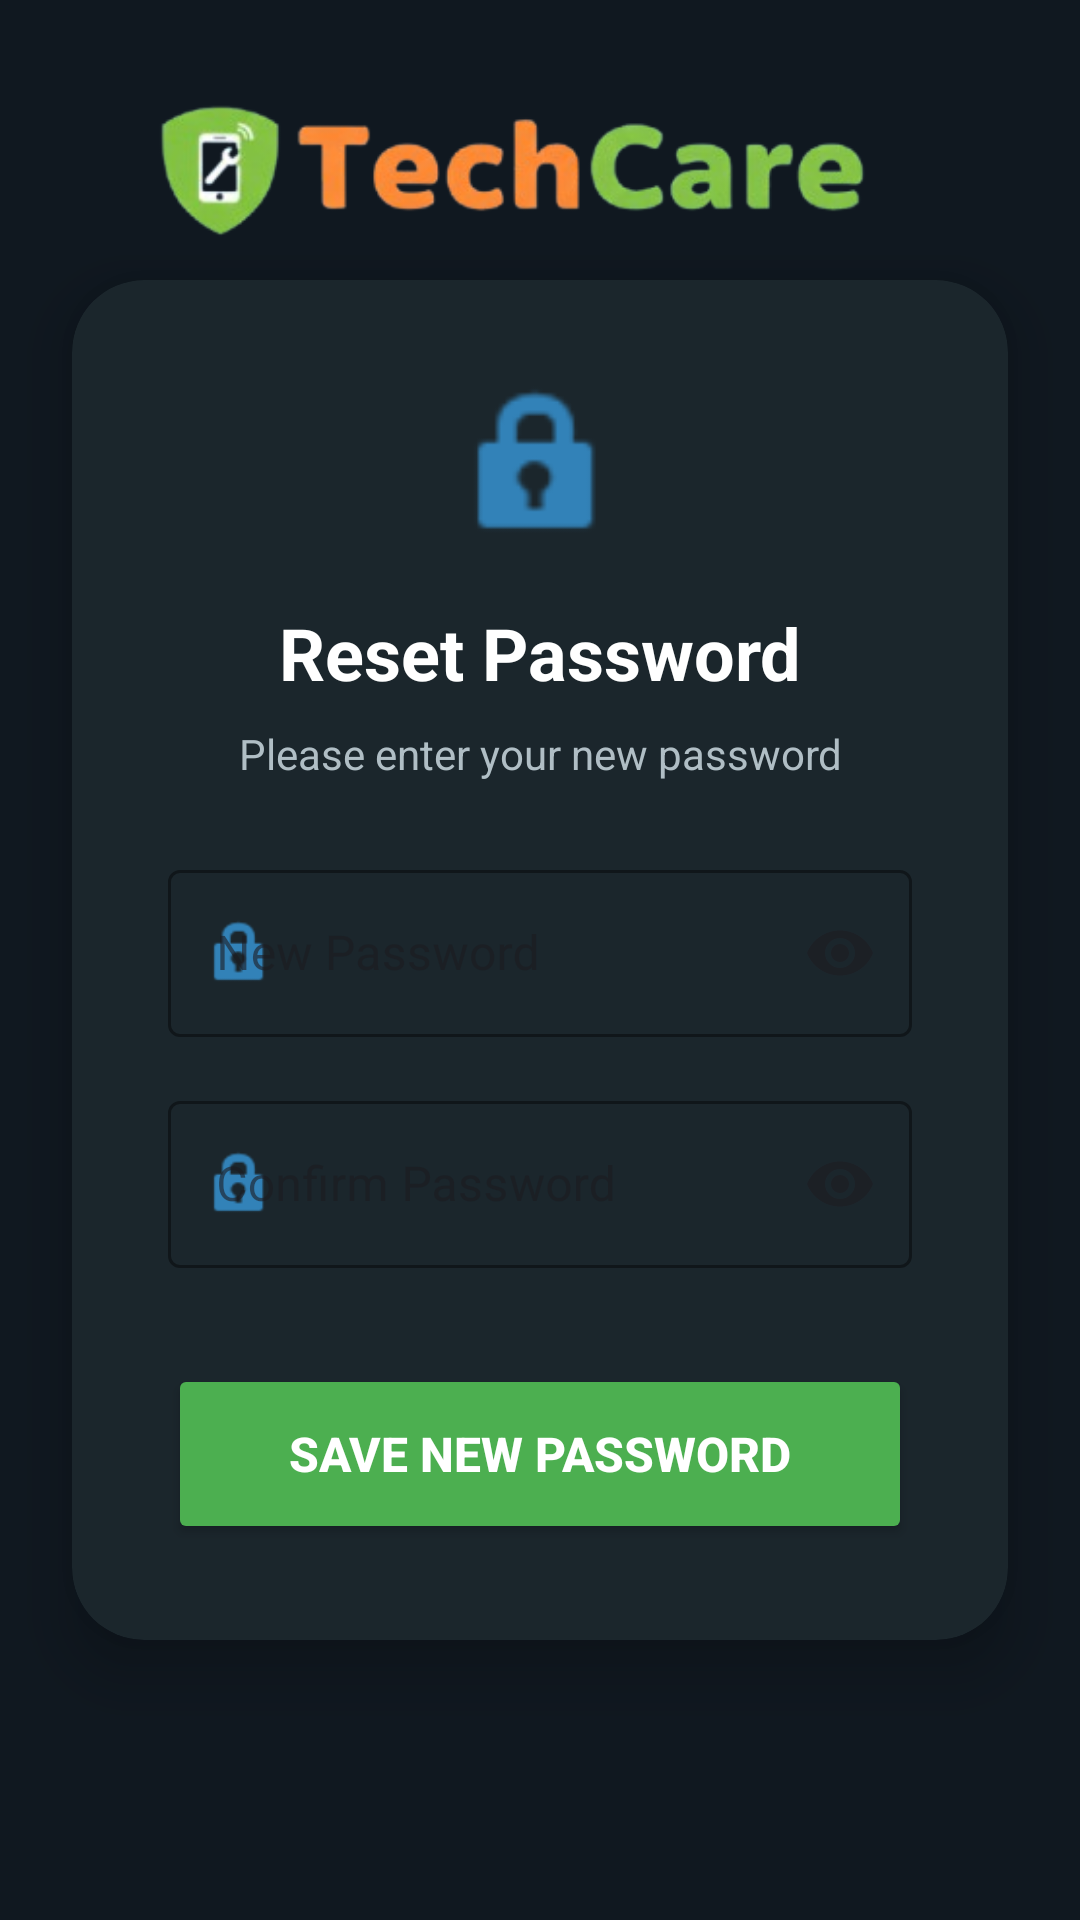

Icons on this 1080px x 1920px Android screen, each with the point to tap as point (x, y):
lock idle: point (535, 460)
